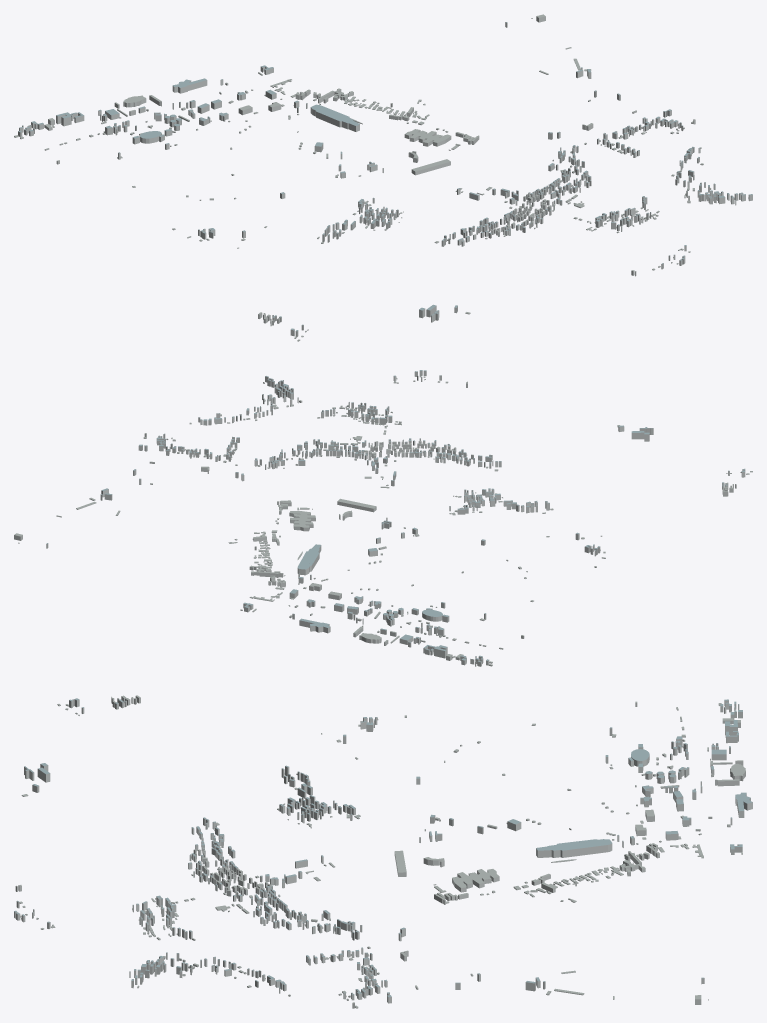
The model's file is far.glb.
The picture shows the model from 3 angles, top to bottom: view 1: azimuth 30°, elevation 25°; view 2: azimuth 150°, elevation 25°; view 3: azimuth 270°, elevation 25°; orthographic projection. The views are drawn at different scales.
Bounding box in the file's own units: 2098 × 29.84 × 2127.
